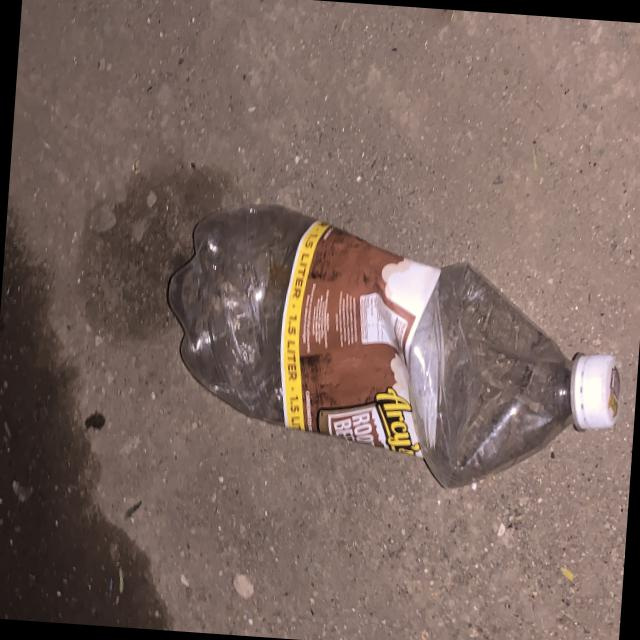Bottle: (166, 203, 619, 486)
